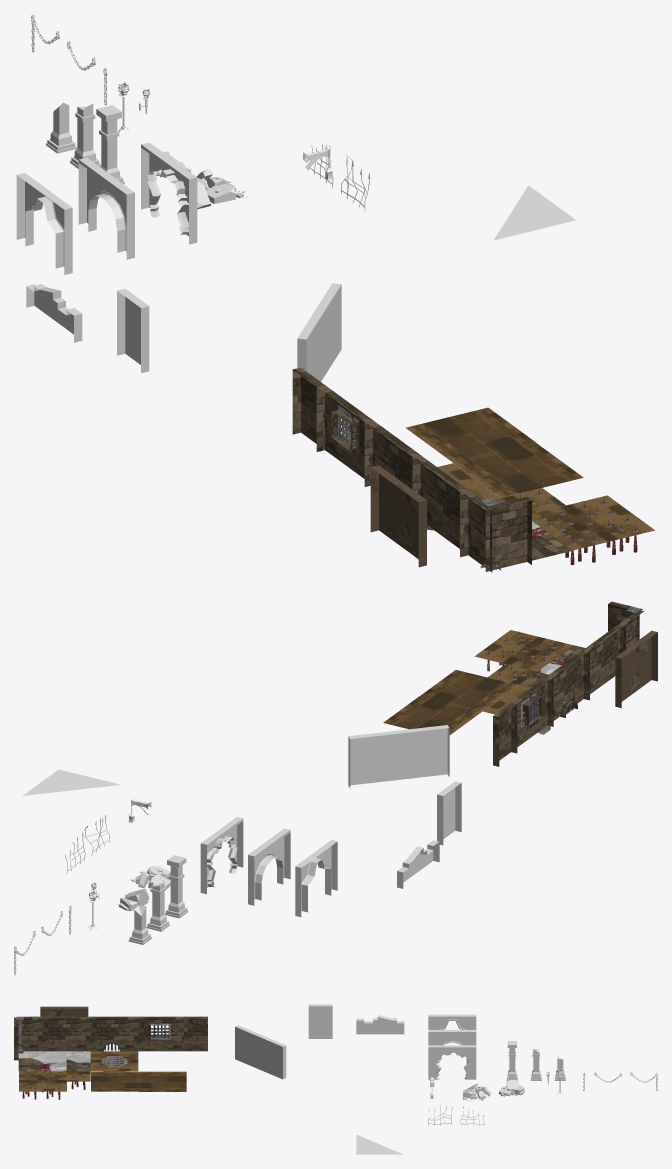
Rendered from Floor_N_wall.fbx.
The picture shows the model from 3 angles, top to bottom: view 1: azimuth 30°, elevation 25°; view 2: azimuth 150°, elevation 25°; view 3: azimuth 270°, elevation 25°; orthographic projection. The views are drawn at different scales.
Visible parts, largest first — view 1: WallCorner, pattern_floor, pattern_floor2, FloorTrap, pattern_wall, Doorway, WallWindow, WallSquare, Archway, Breach, WallDiagnal, pattern_half_wall (+10 smaller); view 2: WallDiagnal, FloorTrap, pattern_floor, pattern_wall, pattern_floor2, WallGutter, WallWindow, Doorway, Breach, WallSquare, Archway, pattern_half_wall (+10 smaller); view 3: WallDiagnal, WallSquare, WallWindow, WallGutter, Breach, pattern_floor2, FloorGutter, WallCorner, FloorSquare, pattern_floor, FloorTrap, pattern_half_wall (+13 smaller).
Boxes of the visible parts, x1=… form: WallCorner: x1=460, y1=490, x2=531, y2=572; pattern_floor: x1=453, y1=442, x2=583, y2=497; pattern_floor2: x1=405, y1=407, x2=535, y2=462; FloorTrap: x1=532, y1=495, x2=654, y2=550; pattern_wall: x1=370, y1=465, x2=426, y2=567; Doorway: x1=78, y1=157, x2=134, y2=259; WallWindow: x1=317, y1=385, x2=372, y2=486; WallSquare: x1=412, y1=455, x2=468, y2=557; Archway: x1=16, y1=173, x2=72, y2=274; Breach: x1=141, y1=142, x2=197, y2=244; WallDiagnal: x1=297, y1=283, x2=341, y2=381; pattern_half_wall: x1=117, y1=288, x2=149, y2=373; WallDiagnal: x1=348, y1=725, x2=449, y2=788; FloorTrap: x1=474, y1=630, x2=573, y2=671; pattern_floor: x1=420, y1=670, x2=518, y2=711; pattern_wall: x1=615, y1=630, x2=657, y2=707; pattern_floor2: x1=383, y1=696, x2=481, y2=734; WallGutter: x1=547, y1=649, x2=589, y2=726; WallWindow: x1=511, y1=676, x2=553, y2=753; Doorway: x1=248, y1=828, x2=290, y2=905; Breach: x1=200, y1=817, x2=243, y2=894; WallSquare: x1=583, y1=623, x2=625, y2=700; Archway: x1=295, y1=840, x2=337, y2=916; pattern_half_wall: x1=437, y1=781, x2=461, y2=845; WallDiagnal: x1=235, y1=1025, x2=286, y2=1079; WallSquare: x1=40, y1=1016, x2=87, y2=1051; WallWindow: x1=136, y1=1016, x2=183, y2=1051; WallGutter: x1=88, y1=1016, x2=135, y2=1051; Breach: x1=428, y1=1045, x2=476, y2=1079; pattern_floor2: x1=138, y1=1071, x2=186, y2=1091; FloorGutter: x1=90, y1=1051, x2=138, y2=1071; WallCorner: x1=14, y1=1016, x2=40, y2=1060; FloorSquare: x1=18, y1=1051, x2=66, y2=1071; pattern_floor: x1=91, y1=1071, x2=138, y2=1091; FloorTrap: x1=19, y1=1071, x2=66, y2=1091; pattern_half_wall: x1=308, y1=1004, x2=332, y2=1038.
Bounding box in the file's own units: 135 × 26.23 × 301.
